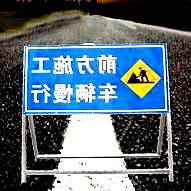sign: (23, 45, 169, 112)
